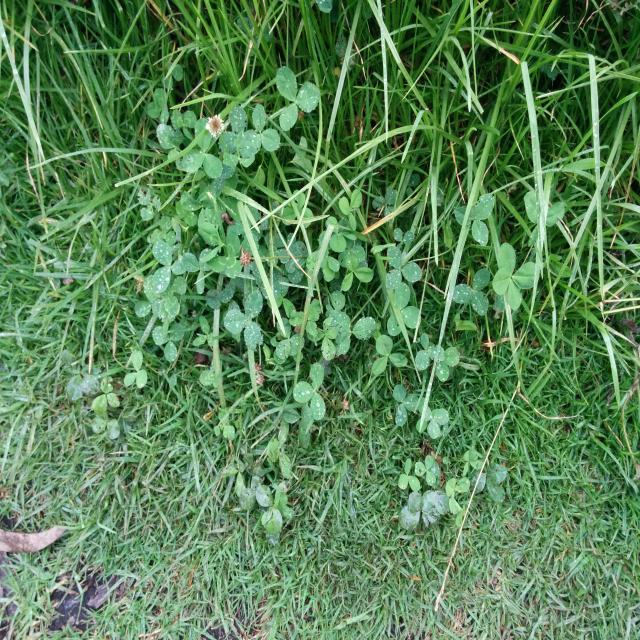Four Leaf Clover: (492, 242, 535, 310)
